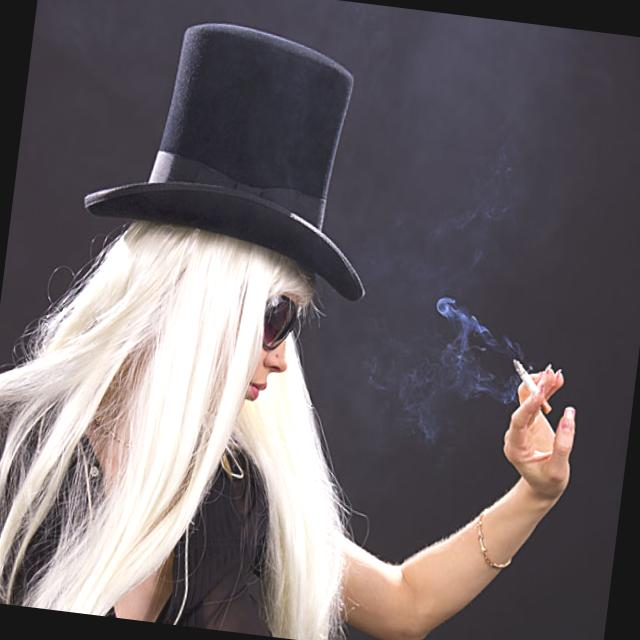cigarette: (506, 350, 540, 394)
